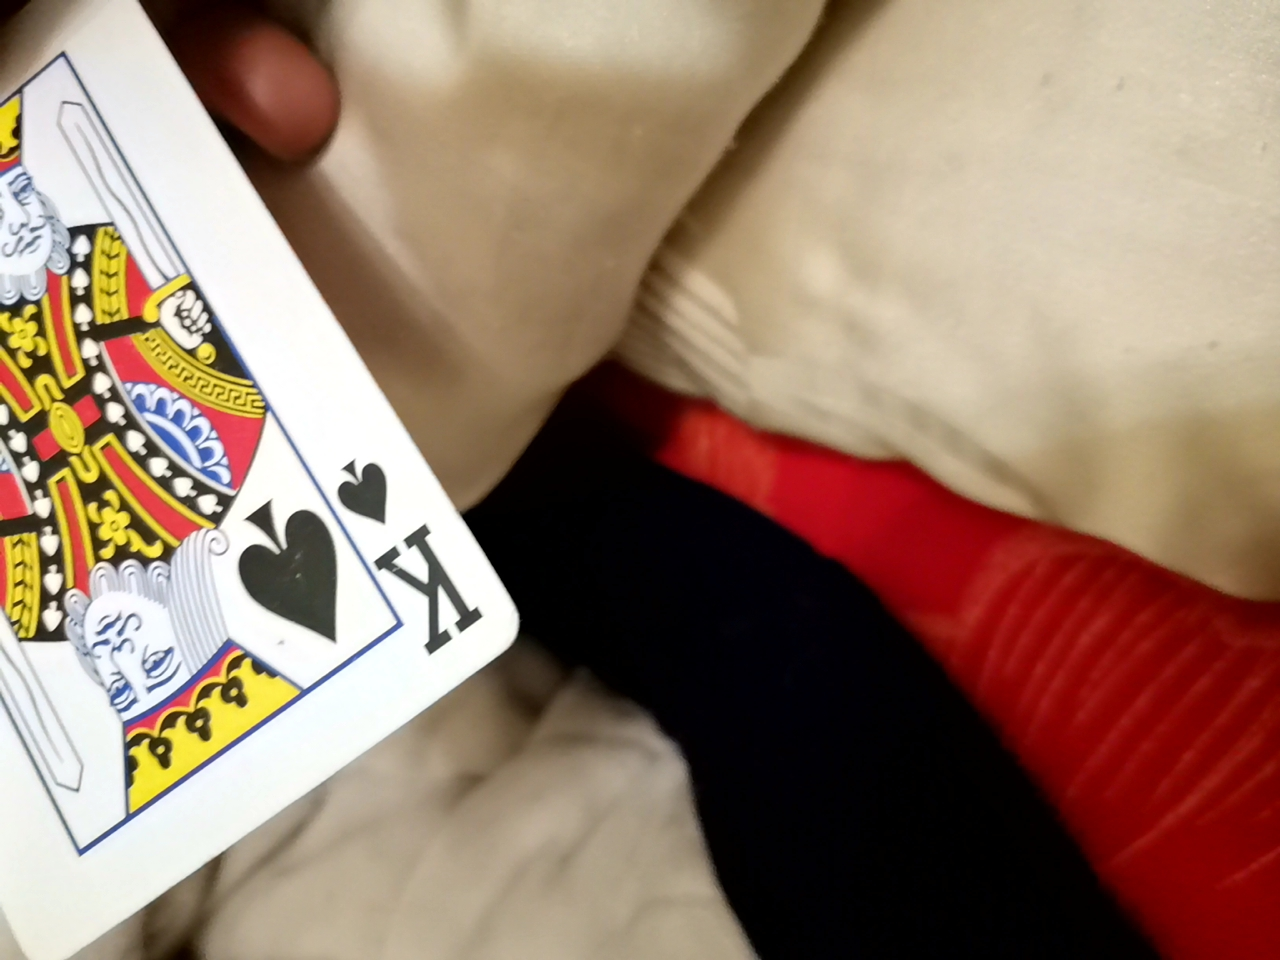ht k: (6, 0, 512, 931)
